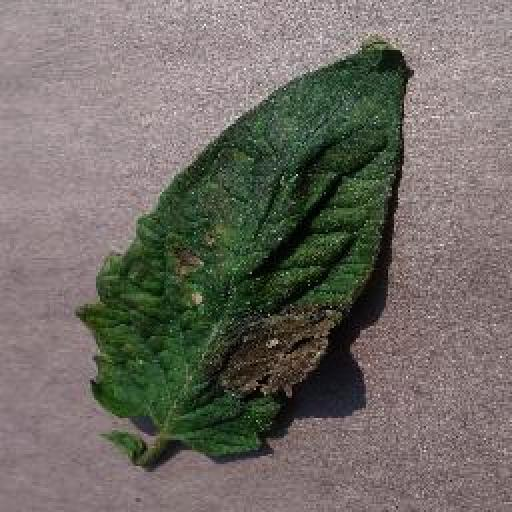disease_tomato: (76, 39, 410, 461)
